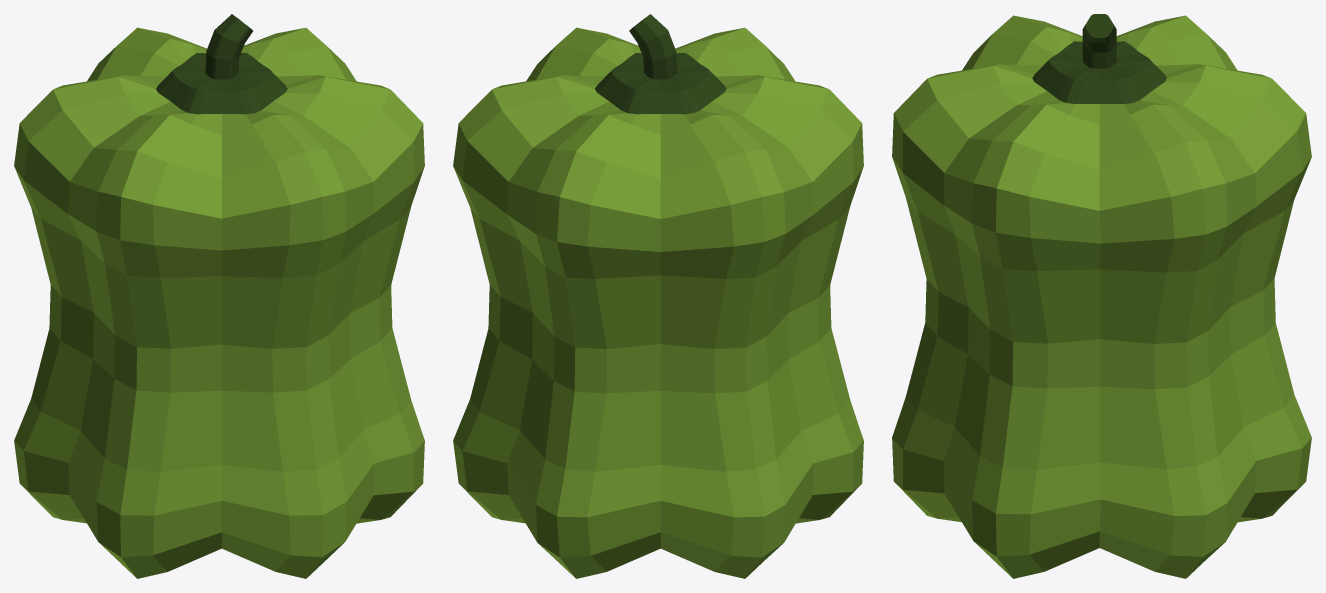
The model's file is bell_pepper_green.fbx.
3 renders of one model, left to right at view 1: azimuth 30°, elevation 25°; view 2: azimuth 150°, elevation 25°; view 3: azimuth 270°, elevation 25°, orthographic. The views are drawn at different scales.
Parts seen in each view (by area): view 1: bell_pepper_green; view 2: bell_pepper_green; view 3: bell_pepper_green.
Boxes of the visible parts, x1,y1,x2,y2 form: bell_pepper_green: (14,14,424,578); bell_pepper_green: (453,14,863,578); bell_pepper_green: (892,14,1311,578).
Bounding box in the file's own units: 82.57 × 124 × 91.04.
